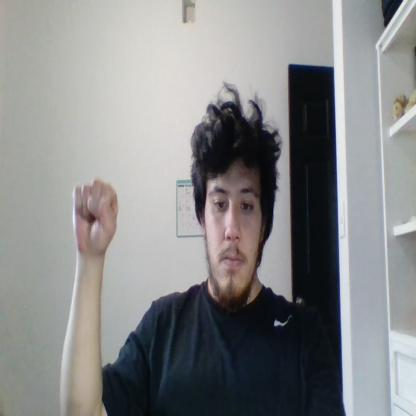S: (72, 178, 118, 256)
